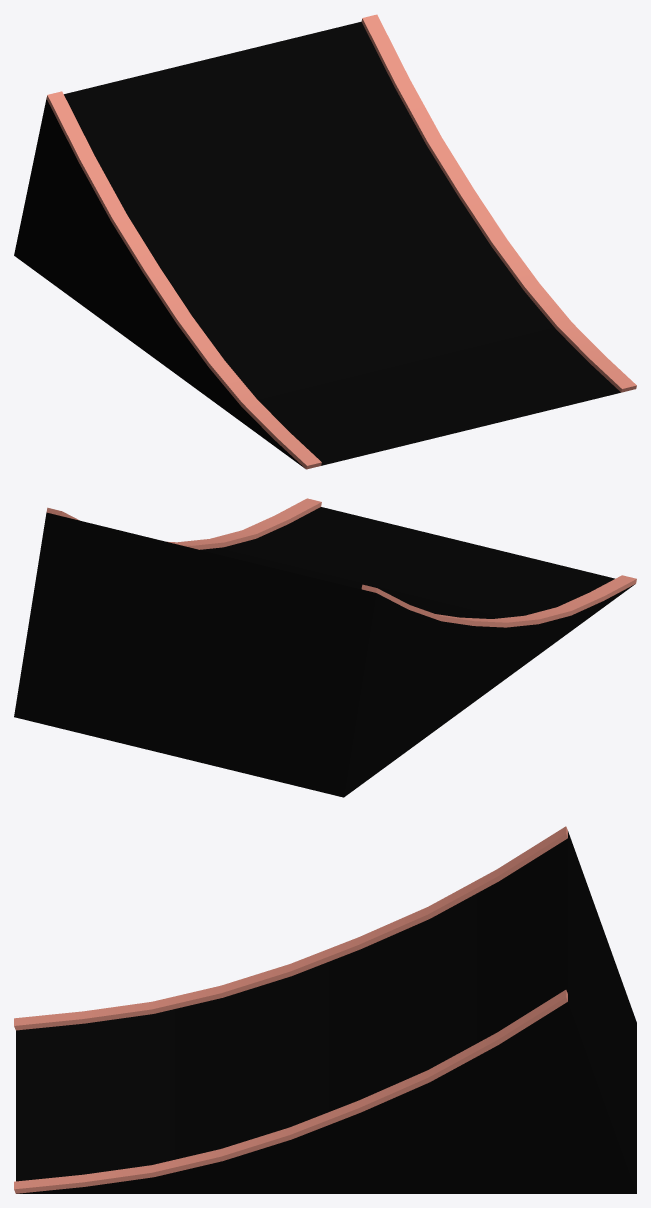
The model's file is long ramp.fbx.
3 views of the same model, one above another, from view 1: azimuth 30°, elevation 25°; view 2: azimuth 150°, elevation 25°; view 3: azimuth 270°, elevation 25° (orthographic). The views are drawn at different scales.
Parts seen in each view (by area): view 1: Short Way.002; view 2: Short Way.002; view 3: Short Way.002.
Part boxes in pixels (x1,y1,x2,y2): Short Way.002: [14, 14, 636, 469]; Short Way.002: [14, 498, 636, 797]; Short Way.002: [14, 826, 636, 1193].
Bounding box in the file's own units: 7.58 × 11.66 × 4.06.
